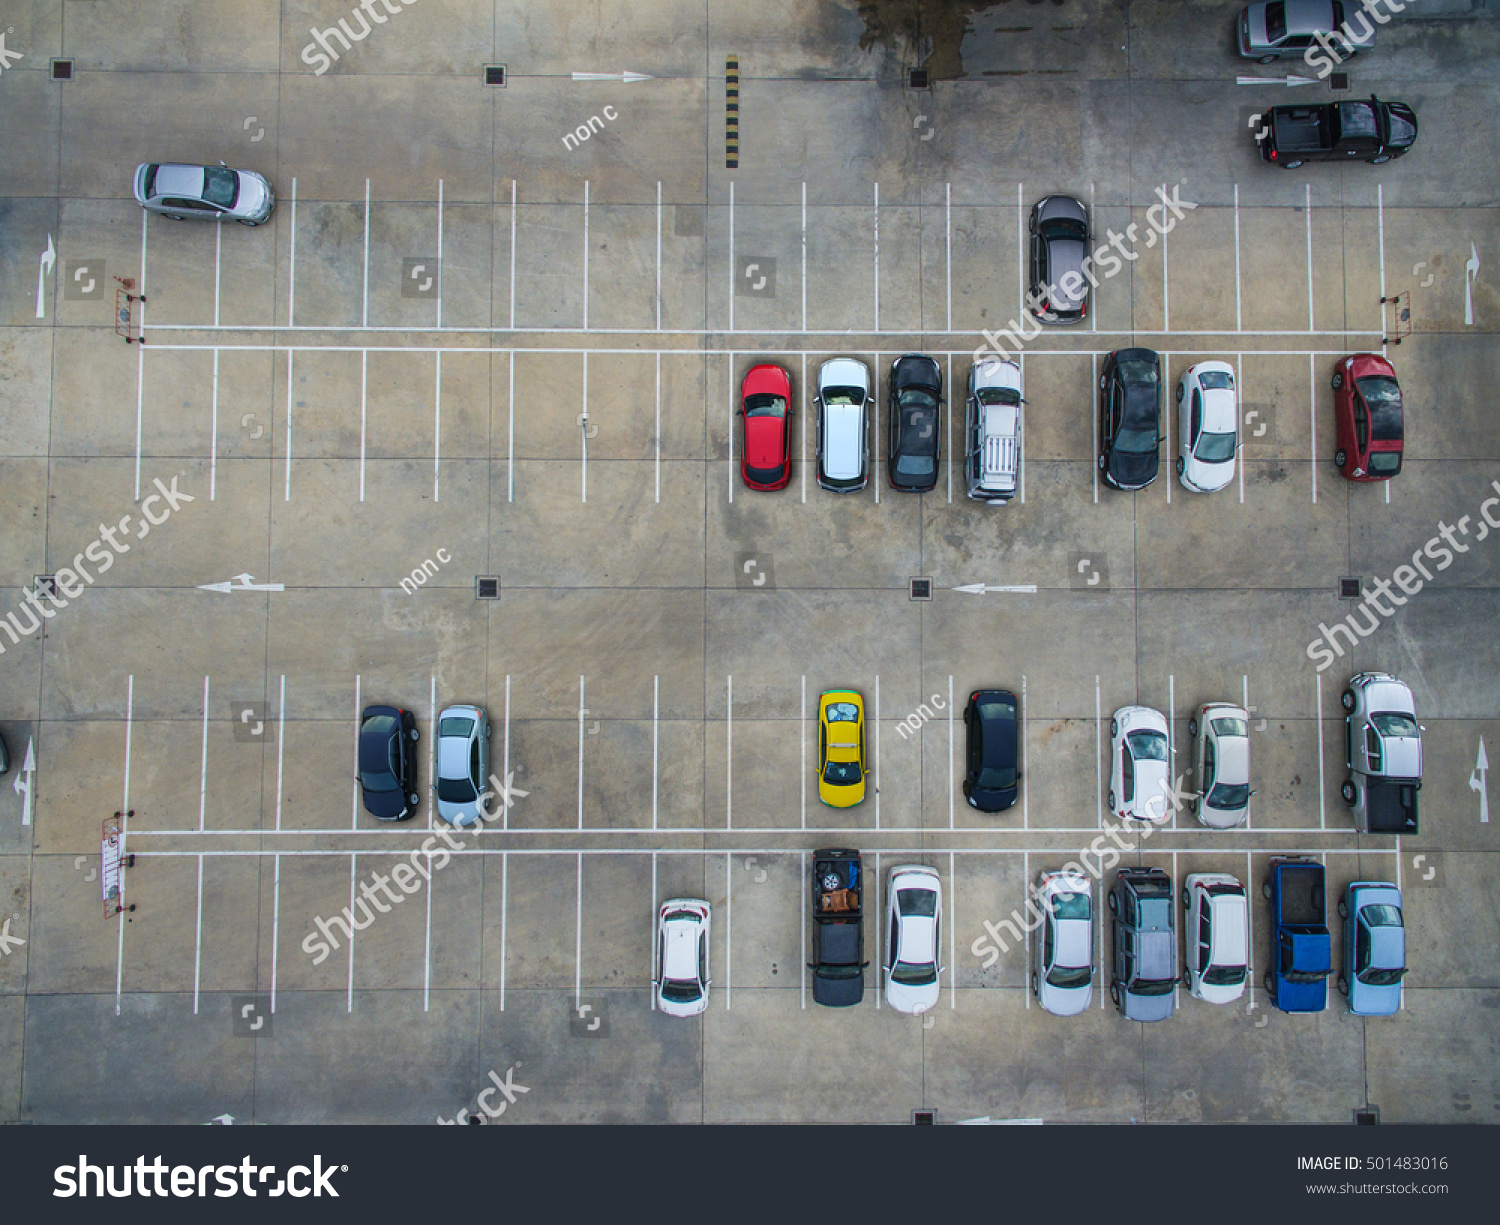Car: (1332, 667, 1426, 841), (1243, 95, 1426, 169), (1260, 852, 1332, 1019), (128, 156, 283, 232), (1109, 861, 1177, 1027), (1331, 351, 1409, 489), (1336, 879, 1410, 1019), (958, 356, 1028, 506), (1098, 346, 1166, 495), (1222, 1, 1373, 67), (1030, 865, 1094, 1019), (1181, 870, 1253, 1006), (882, 864, 946, 1014), (1172, 360, 1241, 500), (809, 354, 876, 496), (1030, 193, 1098, 330), (810, 844, 865, 1009), (1187, 702, 1256, 832), (883, 351, 946, 495), (1103, 702, 1172, 827), (650, 894, 716, 1021), (738, 359, 799, 496), (431, 700, 495, 829), (961, 687, 1022, 817), (356, 704, 421, 824), (815, 685, 870, 810)
LaneMark: (142, 343, 881, 356), (143, 324, 980, 335), (128, 847, 794, 859), (979, 323, 1385, 336), (93, 827, 1355, 831), (862, 847, 1402, 854), (273, 674, 288, 831), (191, 855, 204, 1014), (197, 674, 211, 830), (122, 674, 135, 831), (132, 348, 145, 502), (269, 854, 280, 1014), (208, 348, 219, 501), (360, 176, 371, 327), (422, 854, 432, 1013), (284, 348, 294, 502), (652, 675, 662, 829), (502, 674, 512, 827), (351, 674, 361, 827), (288, 176, 298, 327), (435, 176, 445, 327), (358, 350, 368, 500), (508, 178, 518, 327), (348, 854, 356, 1014), (576, 852, 584, 1013), (1023, 851, 1032, 1011), (577, 672, 586, 830), (1309, 353, 1318, 506), (728, 179, 736, 331), (582, 178, 591, 329), (800, 179, 809, 329), (1233, 183, 1242, 329), (501, 852, 508, 1014), (725, 852, 733, 1013), (115, 913, 126, 1017), (212, 224, 223, 327), (434, 350, 441, 503), (507, 351, 515, 503), (581, 351, 588, 503), (946, 353, 953, 503), (872, 179, 880, 330), (800, 851, 806, 1011), (1099, 852, 1105, 1011), (875, 852, 881, 1009), (140, 211, 148, 322), (1319, 672, 1326, 826), (949, 674, 956, 827), (657, 178, 663, 330), (800, 674, 806, 826), (655, 353, 662, 503), (1165, 353, 1171, 503), (1308, 181, 1314, 331), (875, 675, 881, 826), (1017, 182, 1023, 331), (1162, 183, 1169, 331), (951, 852, 956, 1013), (1098, 672, 1103, 827), (728, 672, 733, 827), (875, 354, 880, 505), (1093, 354, 1098, 505), (728, 354, 733, 503), (1171, 672, 1175, 825), (947, 181, 951, 328), (1380, 184, 1384, 330), (804, 354, 806, 506), (1245, 672, 1250, 707)
